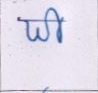i_matra: (48, 8, 66, 44)
